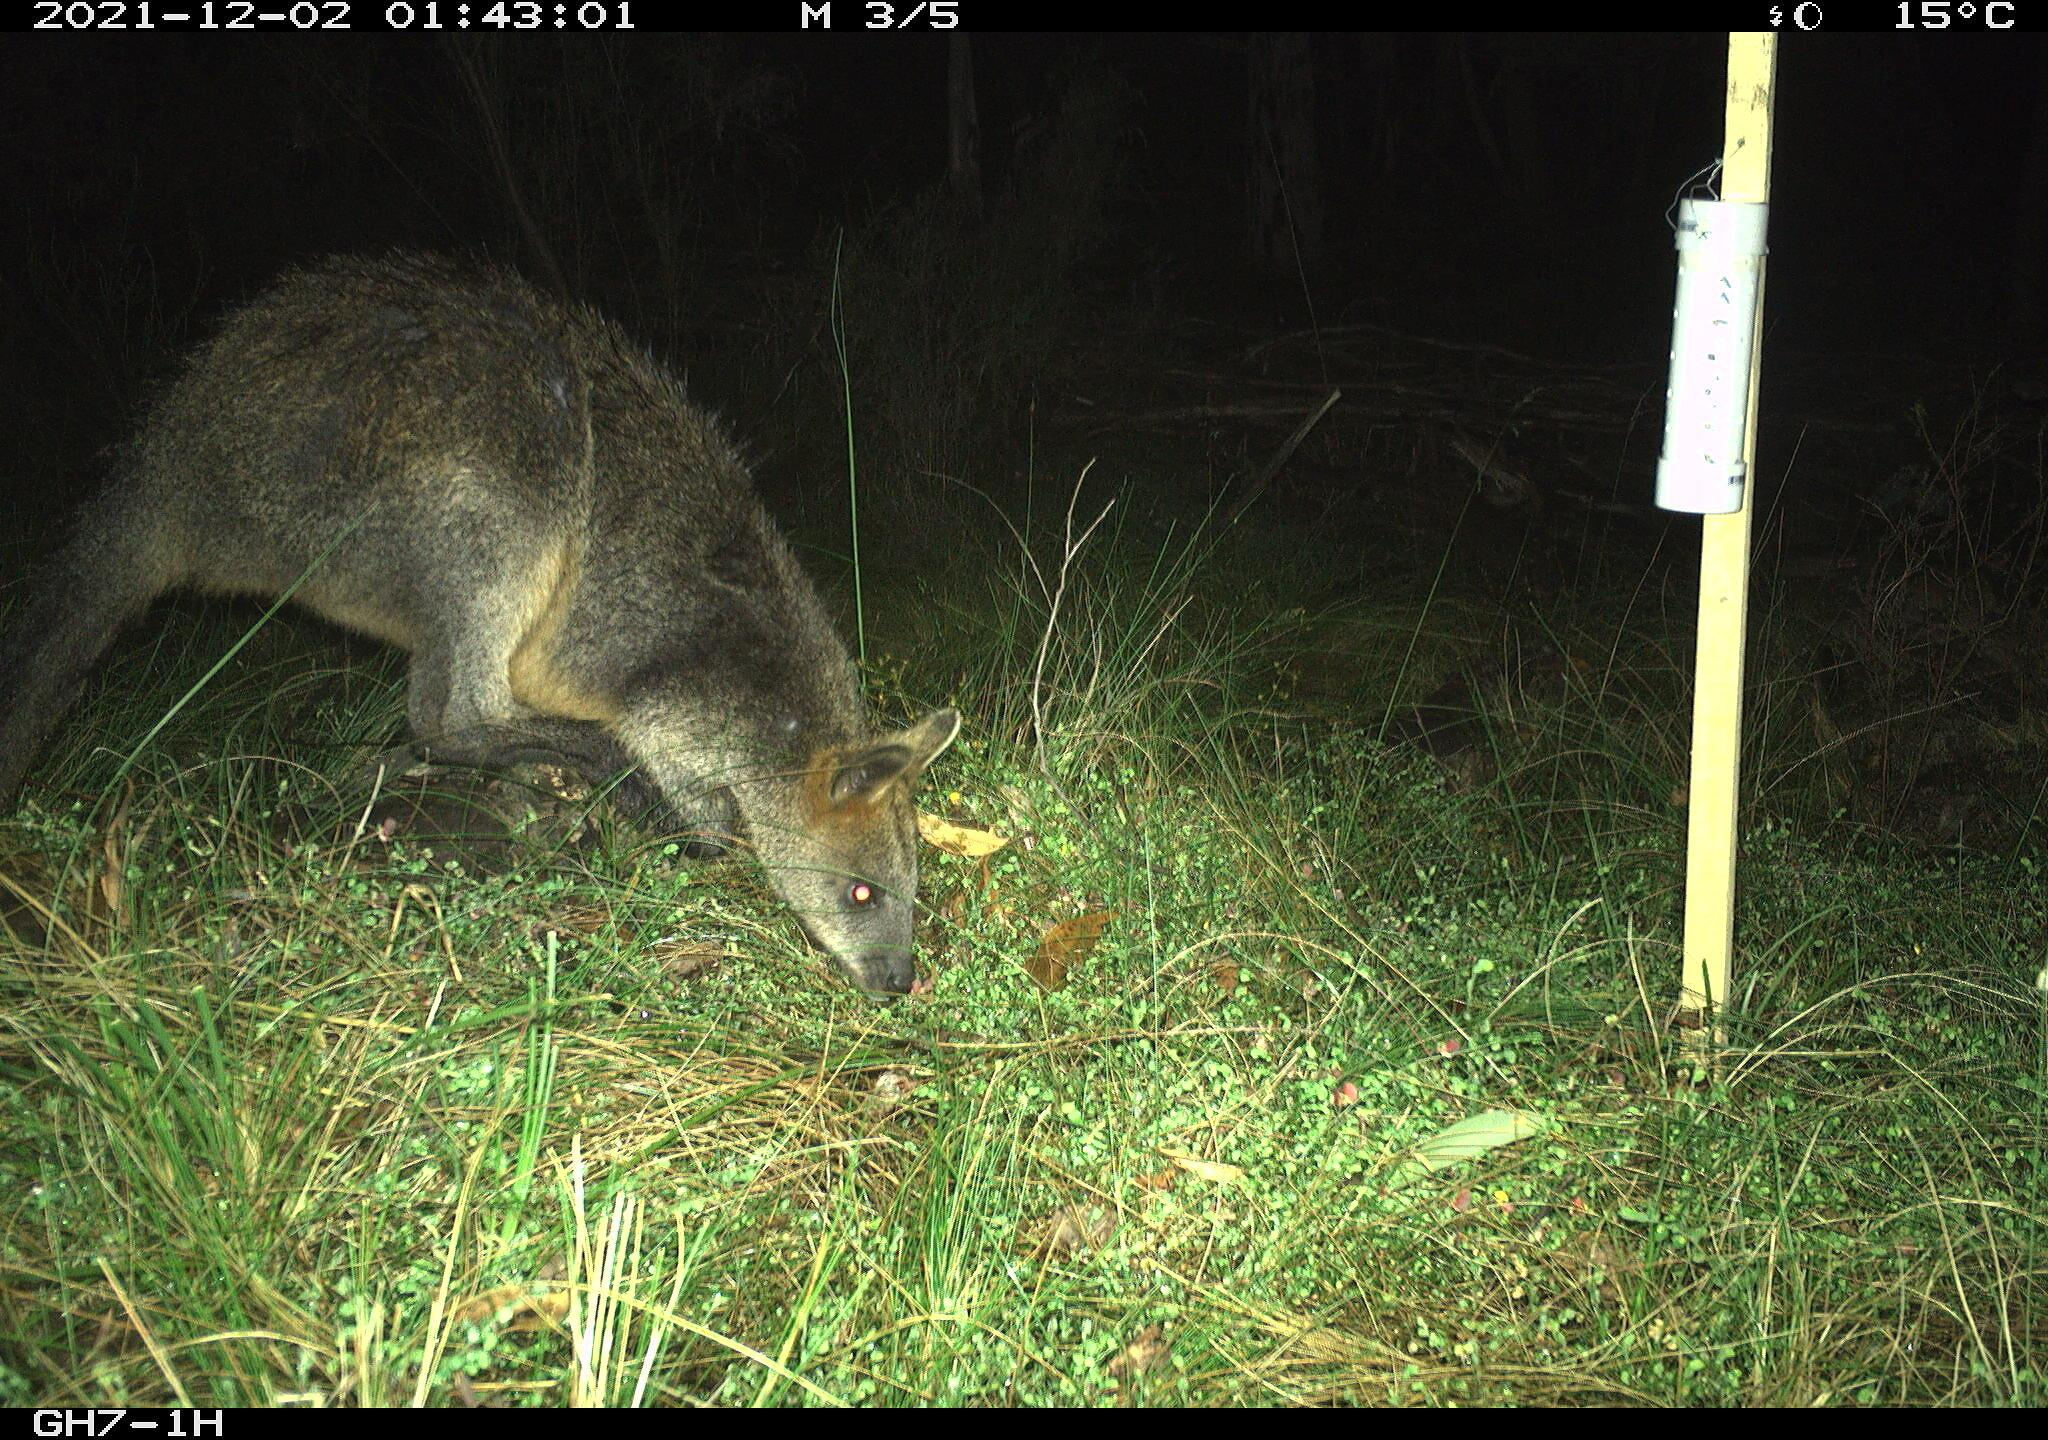Swamp wallaby: (0, 240, 960, 1001)
